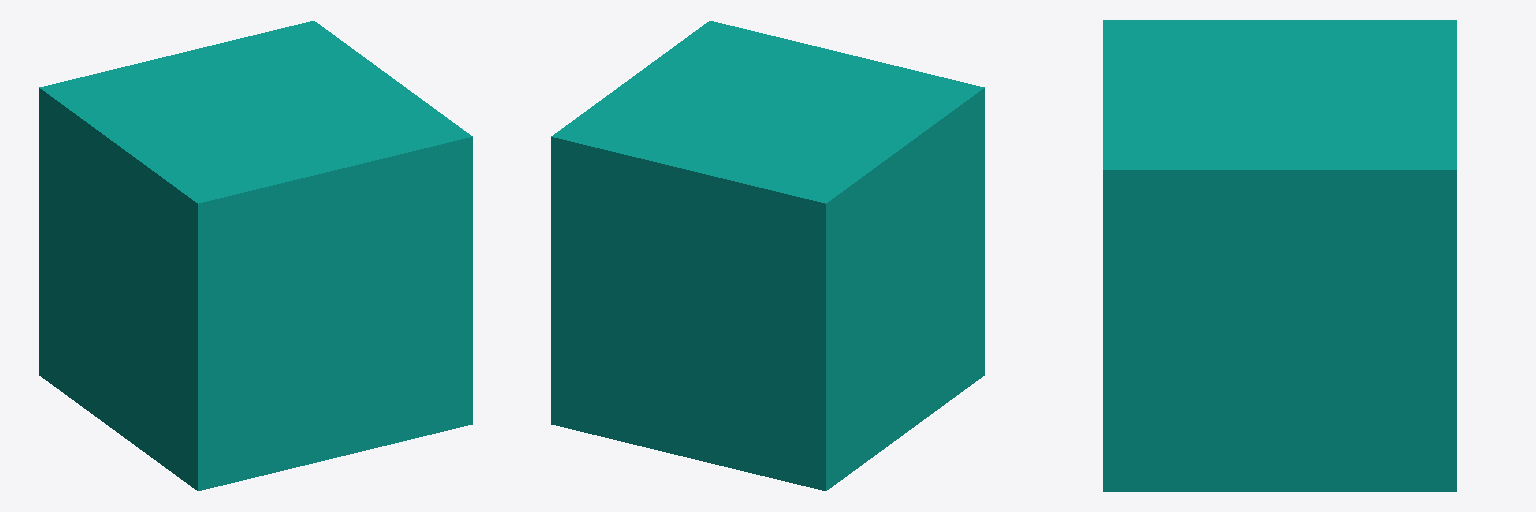
The robot description file, URDF, robot "collision_fixture":
<robot name="collision_fixture">
  <link name="base">
    <visual>
      <origin xyz="0 0 0.5"/>
      <geometry><box size="1 1 1"/></geometry>
      <material><color rgba="0.1 0.7 0.65 1"/></material>
    </visual>
    <collision name="base_envelope">
      <origin xyz="0 0 0.6"/>
      <geometry><box size="1.2 1.2 1.2"/></geometry>
    </collision>
  </link>
  <link name="tip">
    <collision name="tip_mesh">
      <origin xyz="0 0 1"/>
      <geometry><mesh filename="materials/textured.obj"/></geometry>
    </collision>
  </link>
  <joint name="base_to_tip" type="fixed">
    <parent link="base"/><child link="tip"/><origin xyz="2 0 0"/>
  </joint>
</robot>

--- Facts derived from the render (not from the file) ---
Views: 3 orthographic renders of the robot side by side, from view 1: azimuth 30°, elevation 25°; view 2: azimuth 150°, elevation 25°; view 3: azimuth 270°, elevation 25°.
Model collision_fixture with 2 links and 1 joints (1 fixed), rooted at base, posed every joint at zero.
Links seen in each view (by area): view 1: base; view 2: base; view 3: base.
Link boxes in pixels (x1,y1,x2,y2): base: [39, 21, 472, 490]; base: [551, 21, 984, 490]; base: [1103, 20, 1456, 491].
Size in the robot's own frame: 1 by 1 by 1 metres.
Geometry: primitives only (box / cylinder / sphere), no mesh files.
